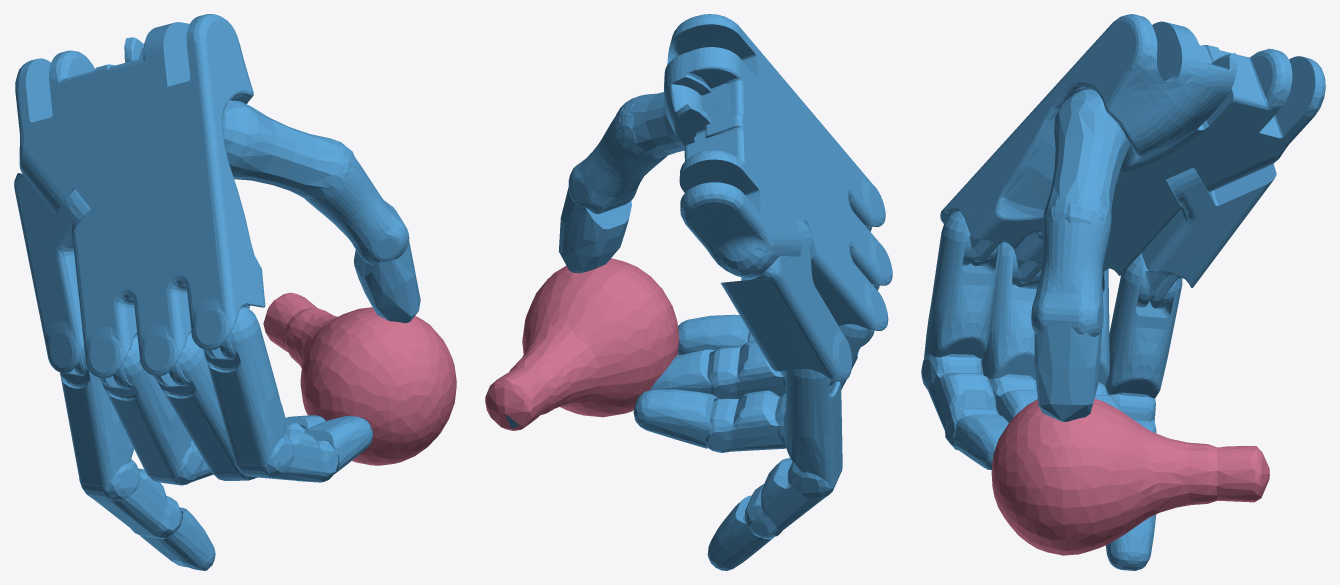
The picture shows the model from 3 angles, left to right: view 1: azimuth 30°, elevation 25°; view 2: azimuth 150°, elevation 25°; view 3: azimuth 270°, elevation 25°; orthographic projection.
Visible parts, largest first — view 1: 9; view 2: 9; view 3: 9.
Boxes of the visible parts, box(x1,y1,x2,y2) form: 9: box(14, 14, 456, 570); 9: box(485, 14, 892, 570); 9: box(921, 14, 1325, 570).
Size of the model in its own units: 0.1338 by 0.199 by 0.1303.
